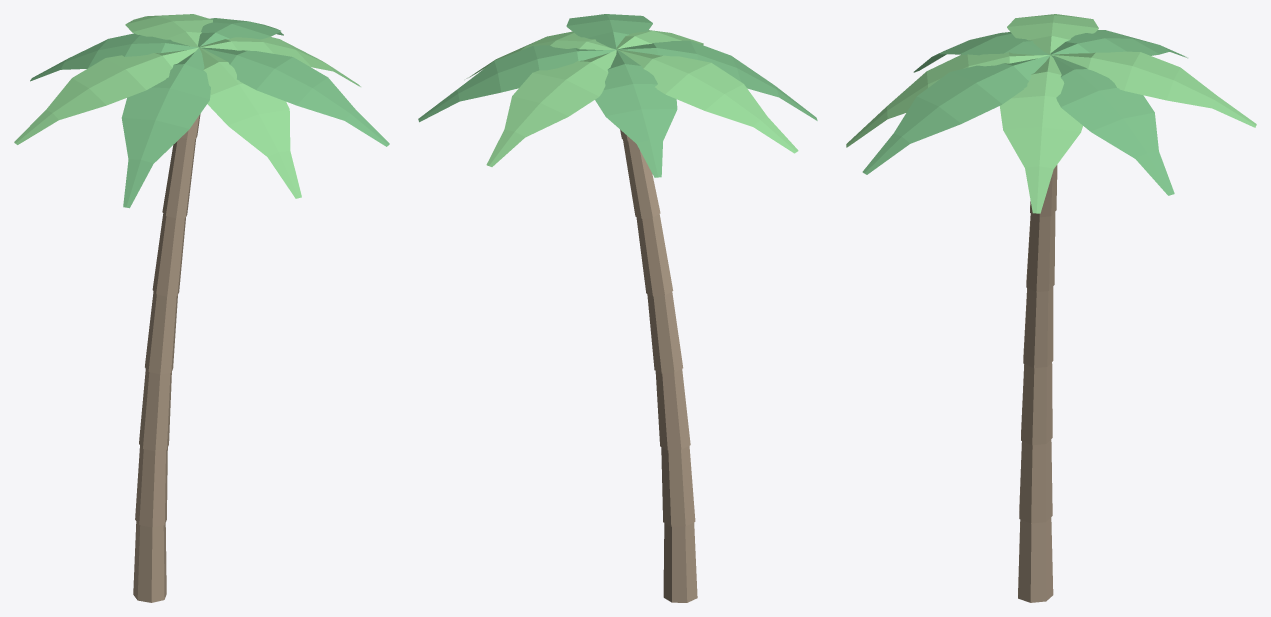
The model's file is PalmTreeTall.fbx.
The picture shows the model from 3 angles, left to right: view 1: azimuth 30°, elevation 25°; view 2: azimuth 150°, elevation 25°; view 3: azimuth 270°, elevation 25°; orthographic projection. The views are drawn at different scales.
Visible parts, largest first — view 1: PalmTreeTall; view 2: PalmTreeTall; view 3: PalmTreeTall.
Part boxes in pixels (left/top/right/bottom): PalmTreeTall: left=14, top=14, right=389, bottom=602; PalmTreeTall: left=418, top=14, right=817, bottom=602; PalmTreeTall: left=846, top=14, right=1256, bottom=602.
Size of the model in its own units: 5.38 by 8.14 by 5.31.
